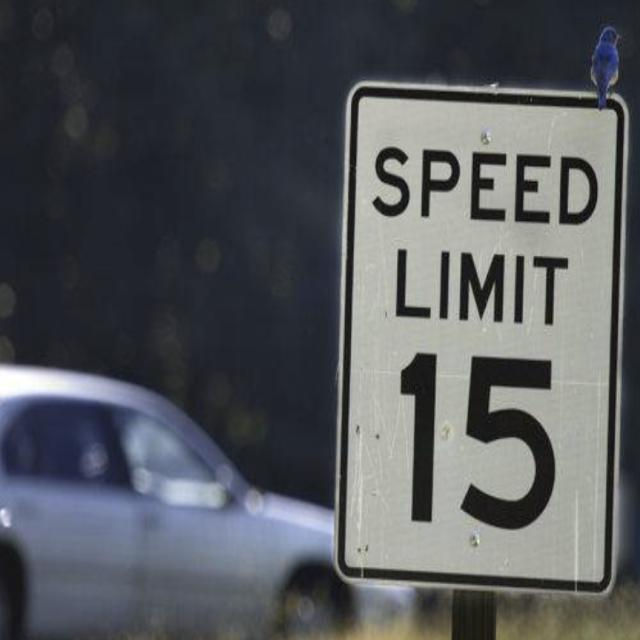speedLimit15: (348, 91, 607, 567)
